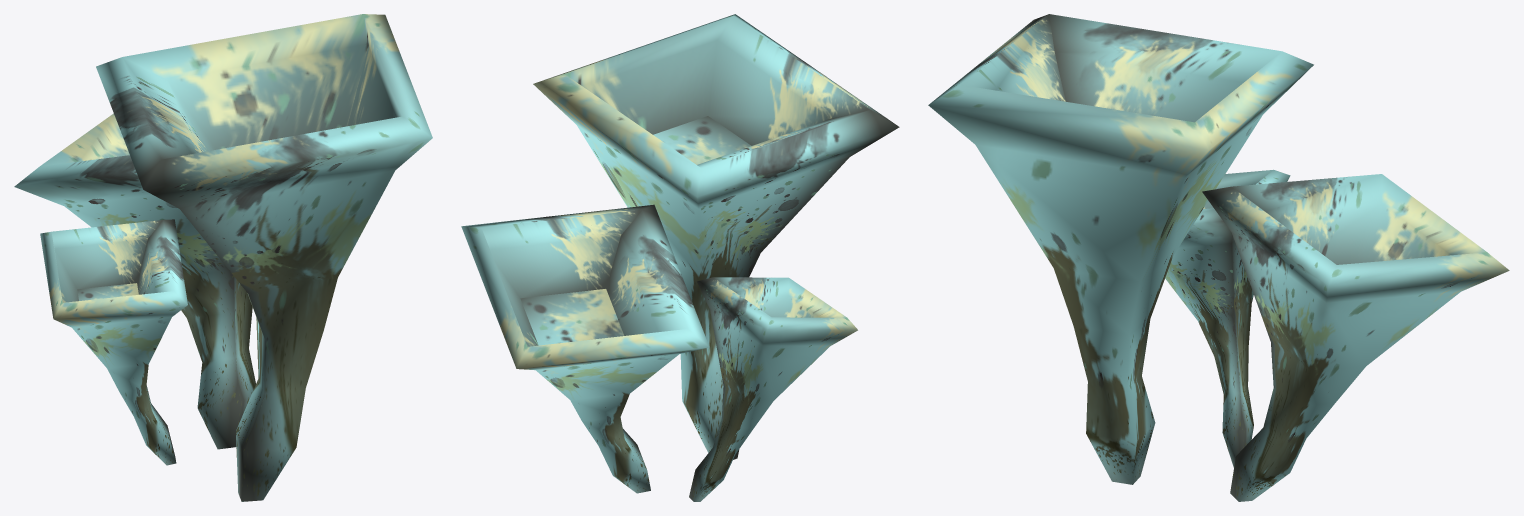
The model's file is Plant_Green_Group.fbx.
The picture shows the model from 3 angles, left to right: view 1: azimuth 30°, elevation 25°; view 2: azimuth 150°, elevation 25°; view 3: azimuth 270°, elevation 25°; orthographic projection. The views are drawn at different scales.
Visible parts, largest first — view 1: Plant_Cornu_JOIN; view 2: Plant_Cornu_JOIN; view 3: Plant_Cornu_JOIN.
Part boxes in pixels (bbox=[...]): Plant_Cornu_JOIN: bbox=[14, 14, 432, 501]; Plant_Cornu_JOIN: bbox=[461, 14, 899, 501]; Plant_Cornu_JOIN: bbox=[928, 14, 1509, 501].
Bounding box in the file's own units: 1.83 × 2.01 × 2.45.
